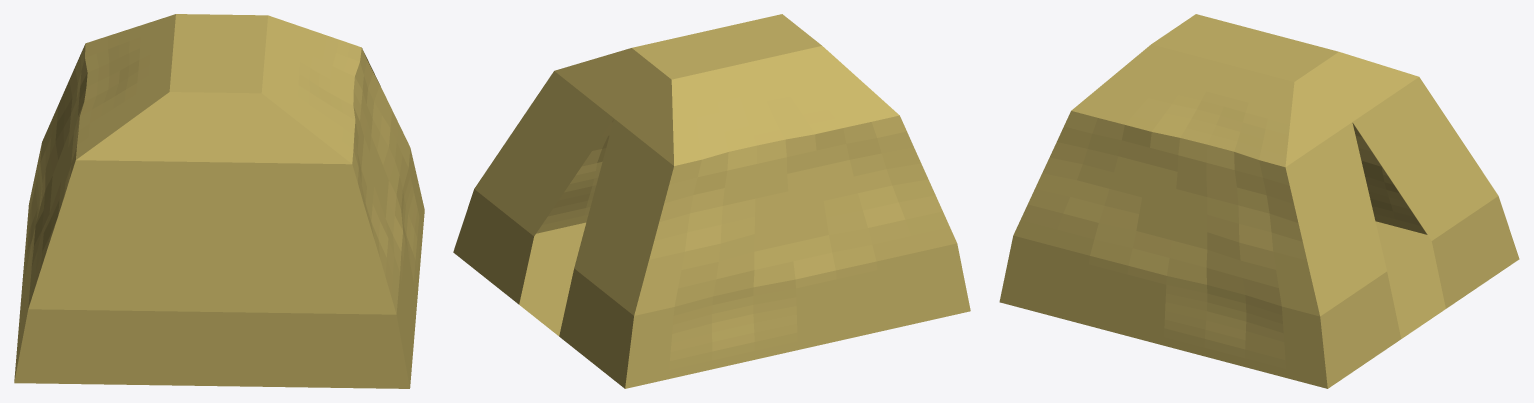
The model's file is tent 1.fbx.
The picture shows the model from 3 angles, left to right: view 1: azimuth 30°, elevation 25°; view 2: azimuth 150°, elevation 25°; view 3: azimuth 270°, elevation 25°; orthographic projection. The views are drawn at different scales.
Visible parts, largest first — view 1: tent; view 2: tent; view 3: tent.
Part boxes in pixels (x1,y1,x2,y2): tent: (14,14,424,388); tent: (453,14,970,388); tent: (999,14,1519,388).
Bounding box in the file's own units: 134 × 66.2 × 136.
